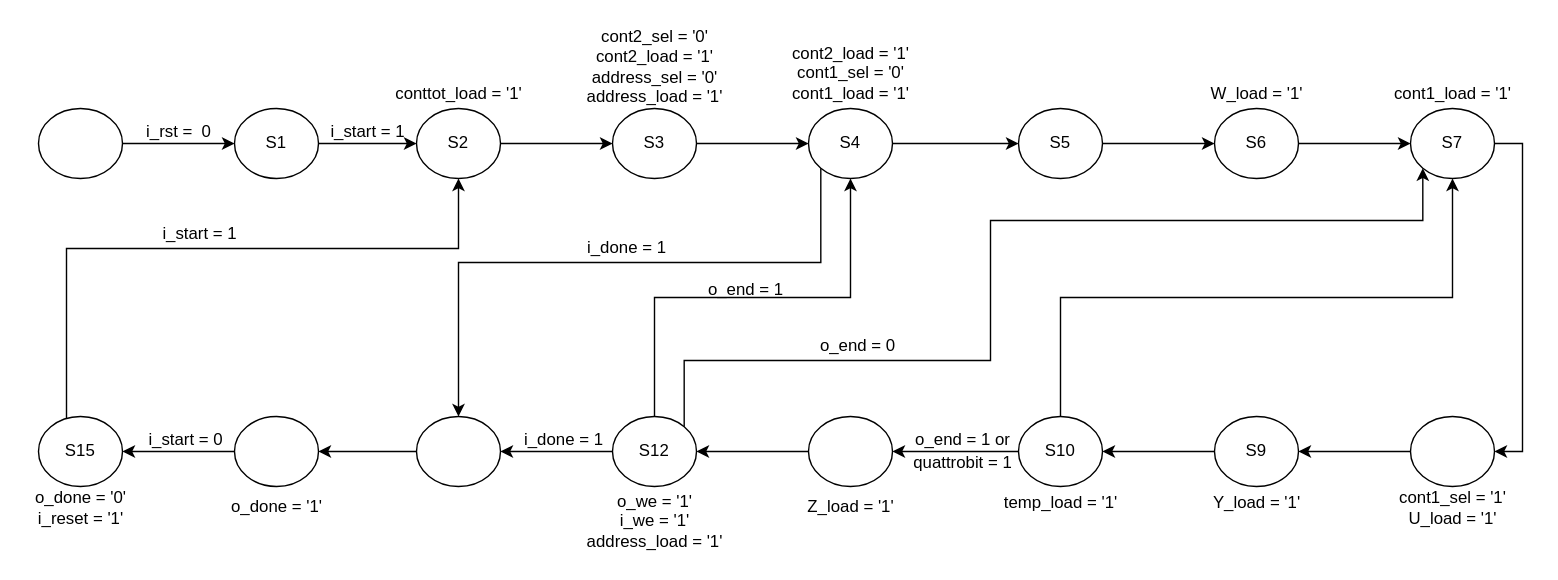
Image size: 1558x580. Some labels were removed from this diagram. The shapes that lost their labels are listed below. From the top down, each one's box as (x1, y1, x2, y2) in pixels, then its label:
(37, 107, 122, 178): S0
(233, 415, 318, 486): S14
(415, 415, 500, 486): S13
(807, 415, 892, 486): S11
(1409, 415, 1494, 486): S8
